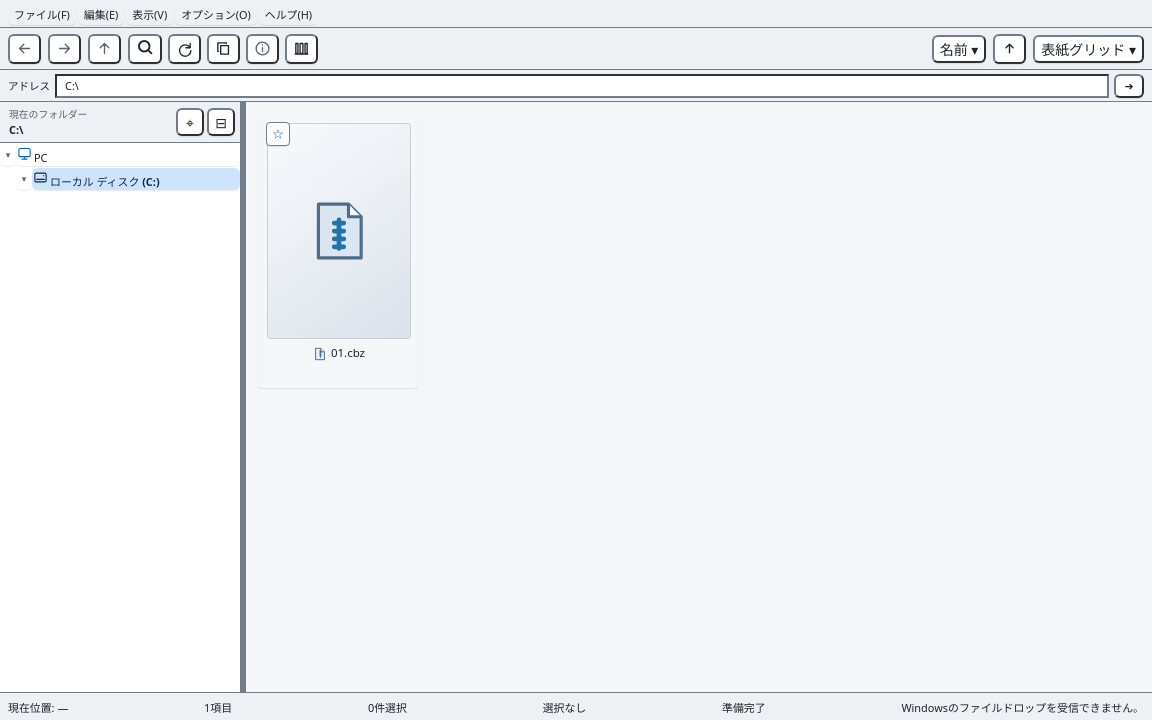
Scenario: FR-B10 connected tag management › FT-B10-004 restores persisted tags when the connected panel is reopened
The width and height of the screenshot is (1152, 720).
Click the button "01.cbz": (338, 251) [258, 114, 418, 388]
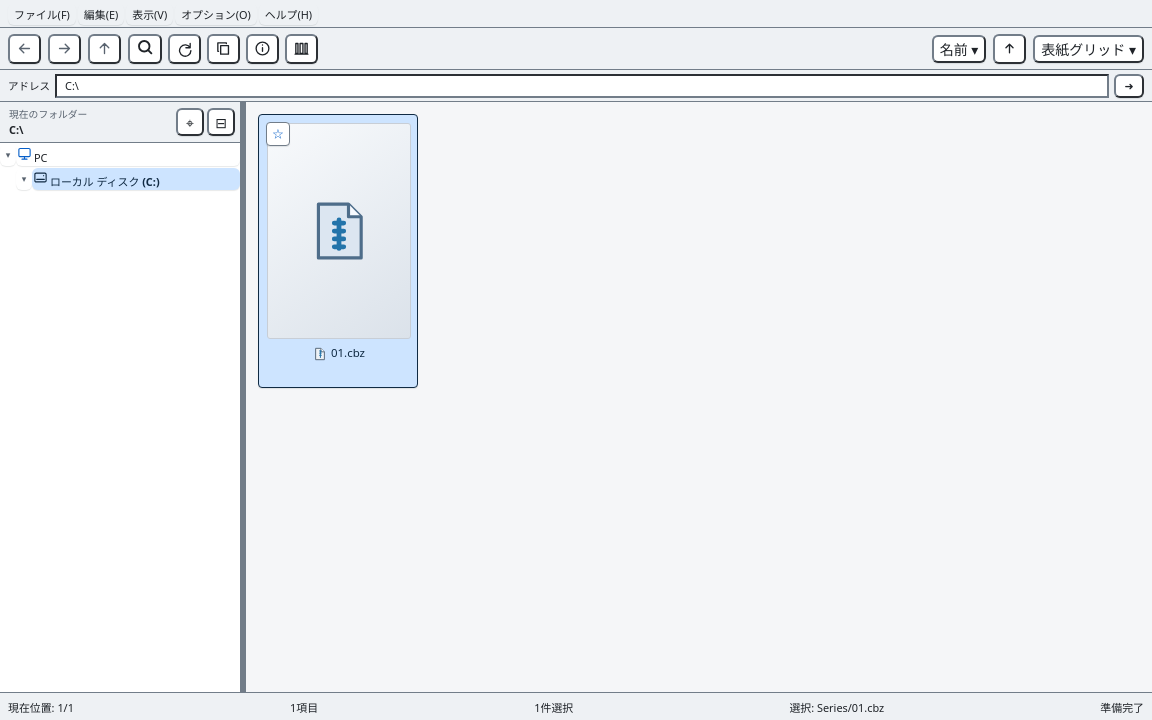
Click the menu item "オプション(O)": (216, 14) [175, 2, 257, 24]
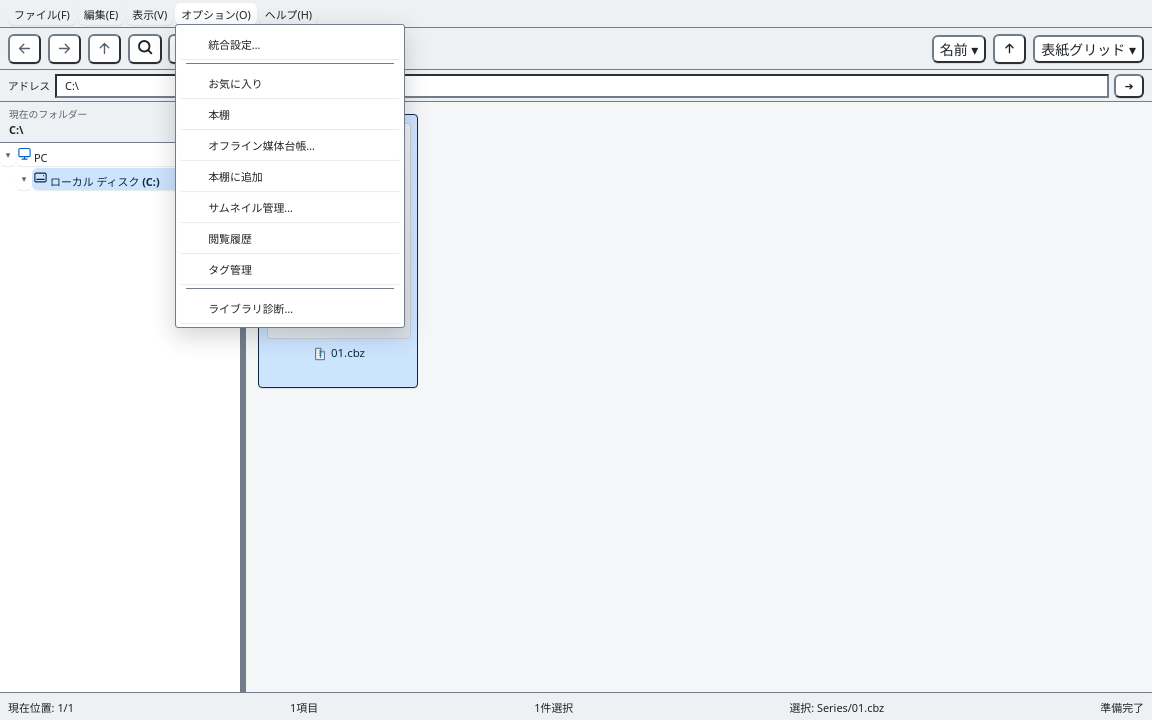
Click the menu item "タグ管理": (290, 269) [180, 254, 400, 284]
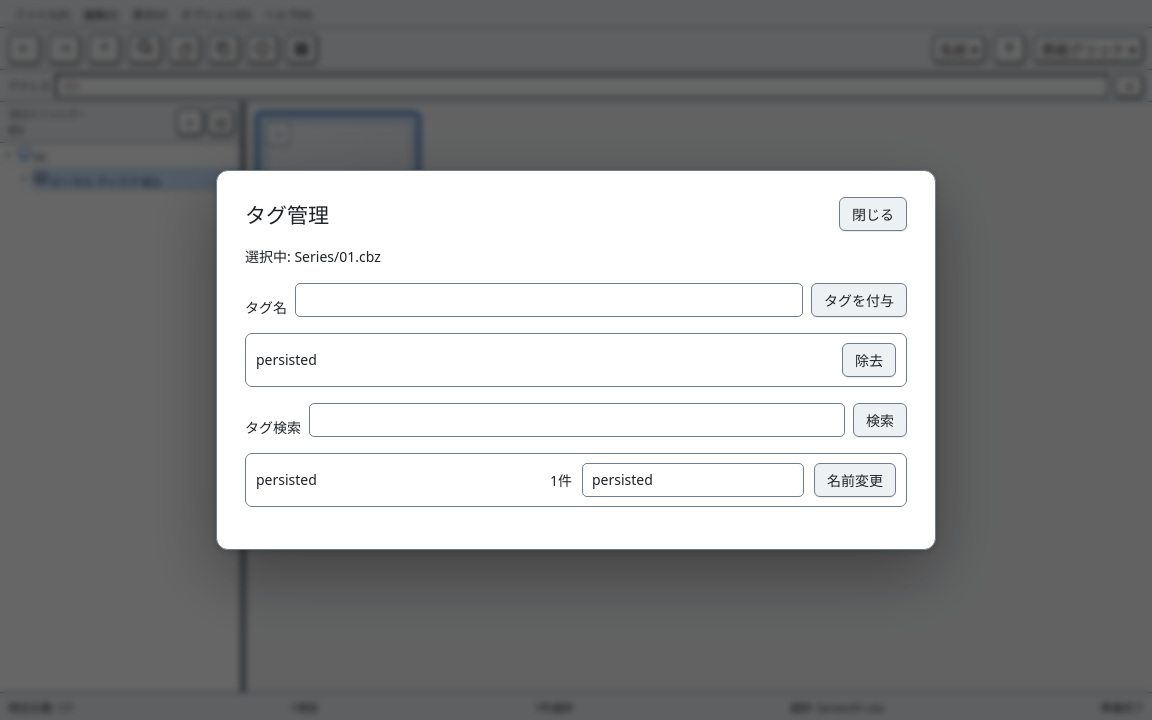
Expected: the button with aria-label "persistedを除去" is shown, [842, 342, 896, 376]
Expected: the field named "persistedの新名称" is shown, [582, 462, 804, 496]
Expected: the text "選択中: Series/01.cbz" is shown, [245, 248, 381, 266]
Click the button "閉じる": (873, 214) [839, 198, 907, 232]
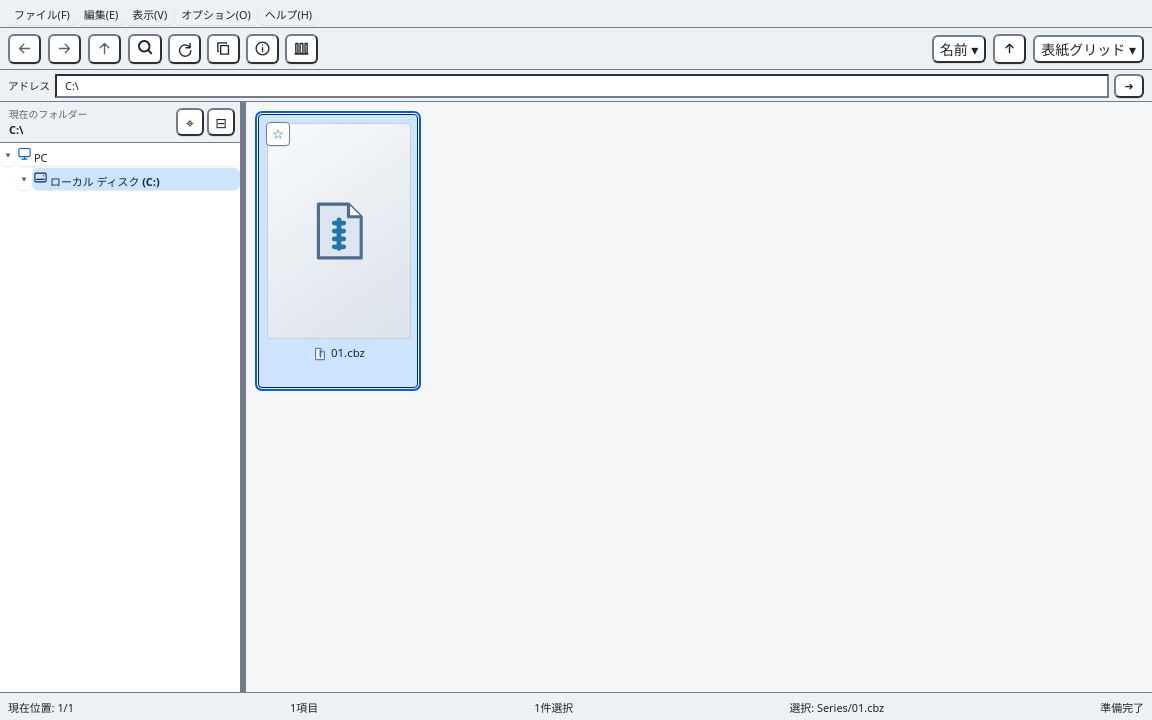
Click the menu item "オプション(O)": (216, 14) [175, 2, 257, 24]
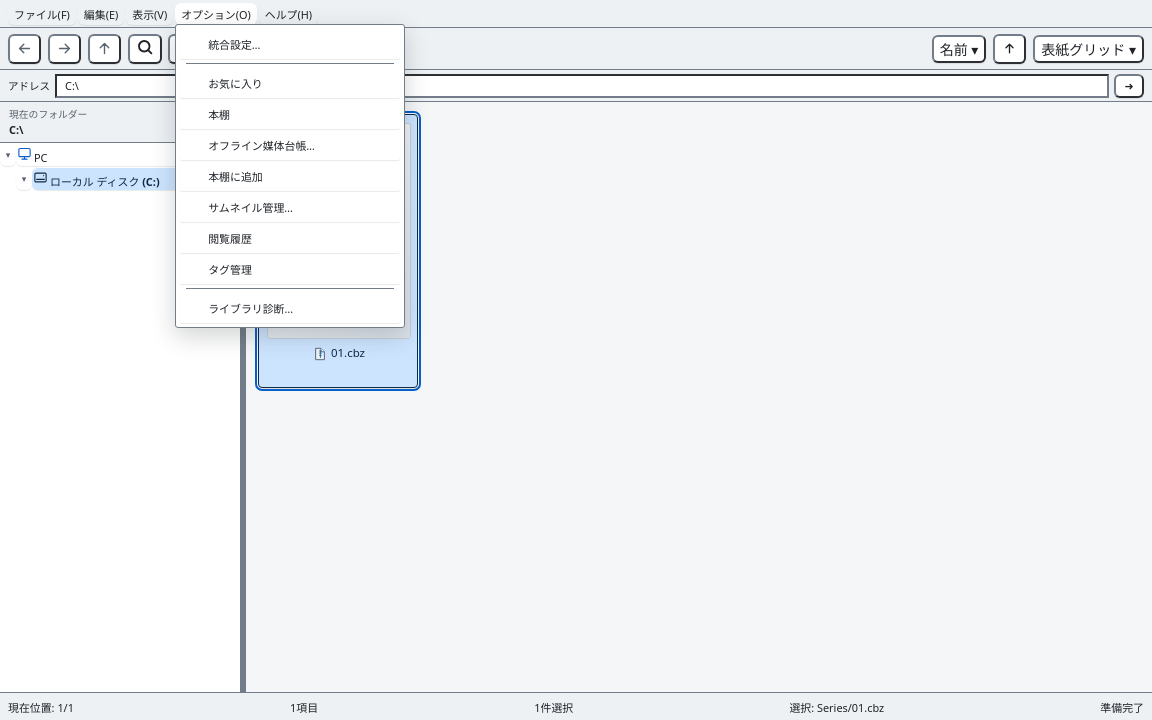
Click the menu item "タグ管理": (290, 269) [180, 254, 400, 284]
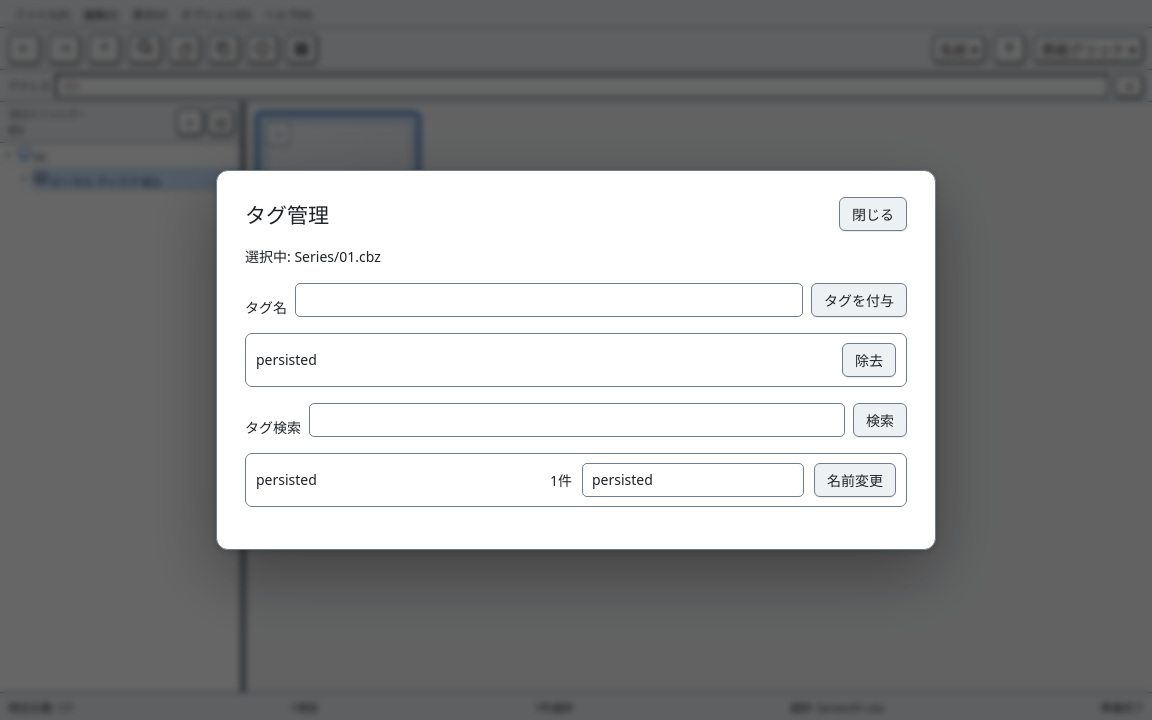
Expected: the button with aria-label "persistedを除去" is shown, [842, 342, 896, 376]
Expected: the field named "persistedの新名称" is shown, [582, 462, 804, 496]
